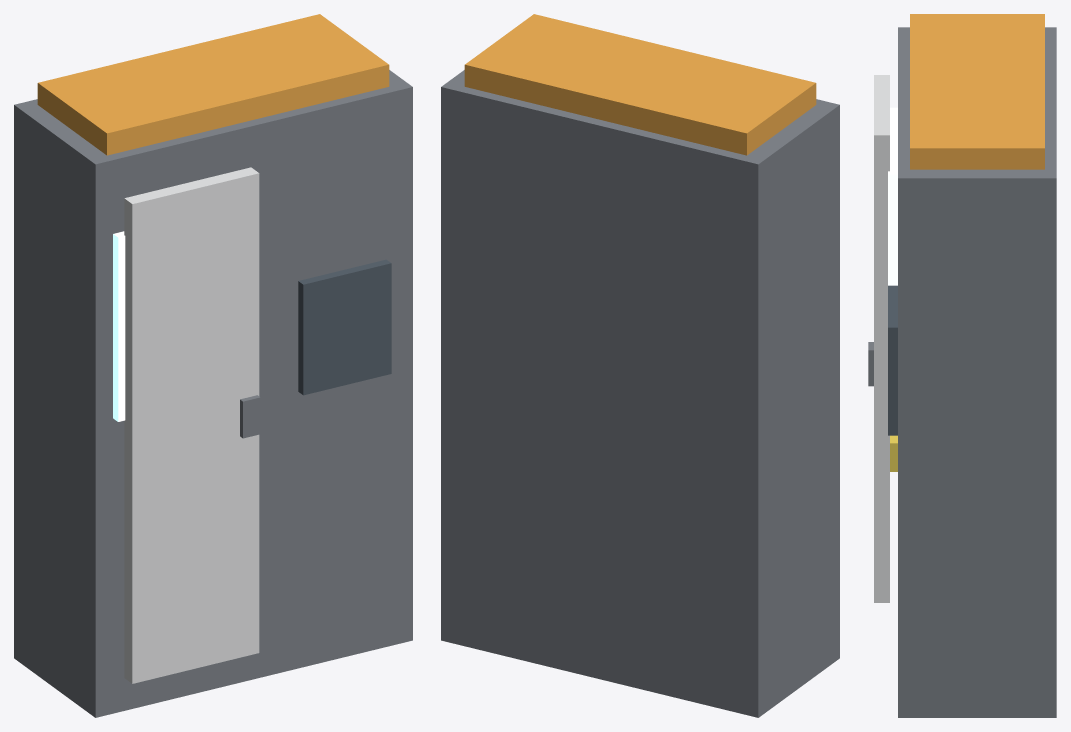
File: storage-locker-tall.glb
3 renders of one model, left to right at view 1: azimuth 30°, elevation 25°; view 2: azimuth 150°, elevation 25°; view 3: azimuth 270°, elevation 25°, orthographic. The views are drawn at different scales.
Parts seen in each view (by area): view 1: storage-locker-tall, door-tall/shell, door-tall/graphite; view 2: storage-locker-tall; view 3: storage-locker-tall, door-tall/shell.
Boxes of the visible parts, box(x1,y1,x2,y2) form: storage-locker-tall: box(14, 14, 412, 717); door-tall/shell: box(124, 167, 259, 683); door-tall/graphite: box(240, 395, 260, 438); storage-locker-tall: box(441, 14, 839, 717); storage-locker-tall: box(888, 14, 1056, 717); door-tall/shell: box(874, 75, 889, 602).
Size of the model in its own units: 0.9001 by 1.56 by 0.475.
